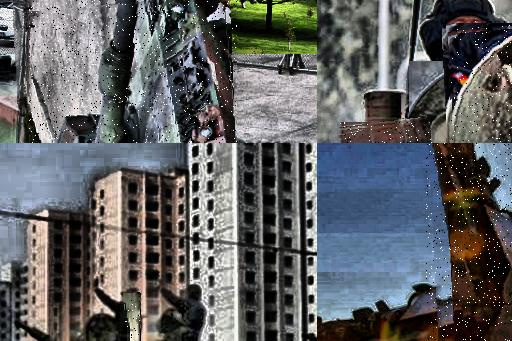tanks: (55, 1, 235, 144), (433, 144, 512, 341), (452, 38, 512, 144), (337, 122, 432, 144), (125, 294, 139, 341)
